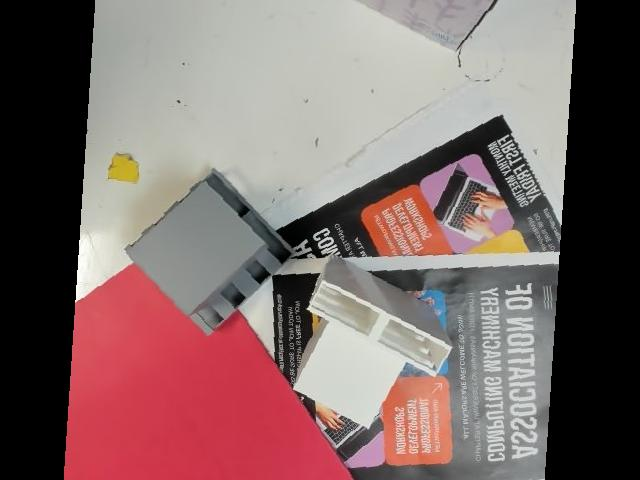grey pallet: (121, 159, 300, 345)
white pallet: (282, 235, 465, 441)
